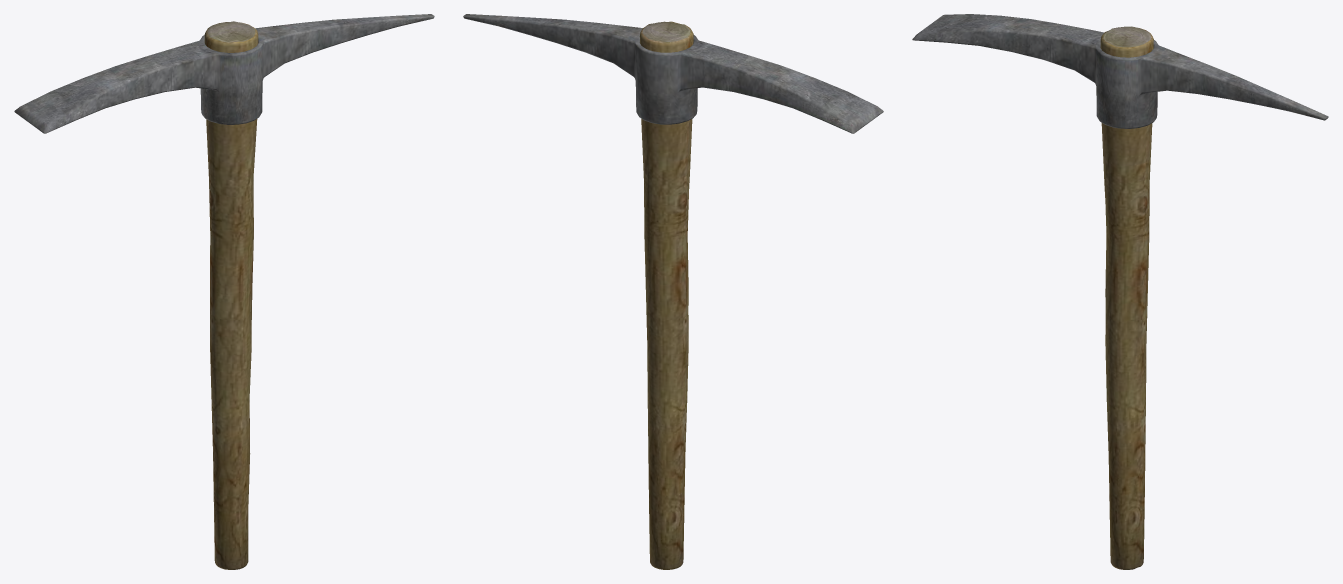
The model's file is mining_pick.glb.
The picture shows the model from 3 angles, left to right: view 1: azimuth 30°, elevation 25°; view 2: azimuth 150°, elevation 25°; view 3: azimuth 330°, elevation 25°; orthographic projection.
Parts seen in each view (by area): view 1: fbx; view 2: fbx; view 3: fbx.
Boxes of the visible parts, box(x1,y1,x2,y2) form: fbx: box(14, 14, 434, 569); fbx: box(463, 14, 883, 569); fbx: box(912, 14, 1328, 569).
Size of the model in its own units: 2.94 by 3.71 by 0.4026.
Materials: 1 (1 with a texture image).
